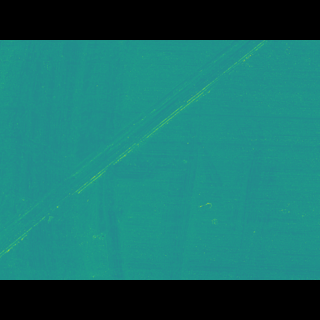Loch: (0, 69, 271, 232), (0, 69, 133, 251), (224, 155, 281, 250), (160, 113, 193, 252)
